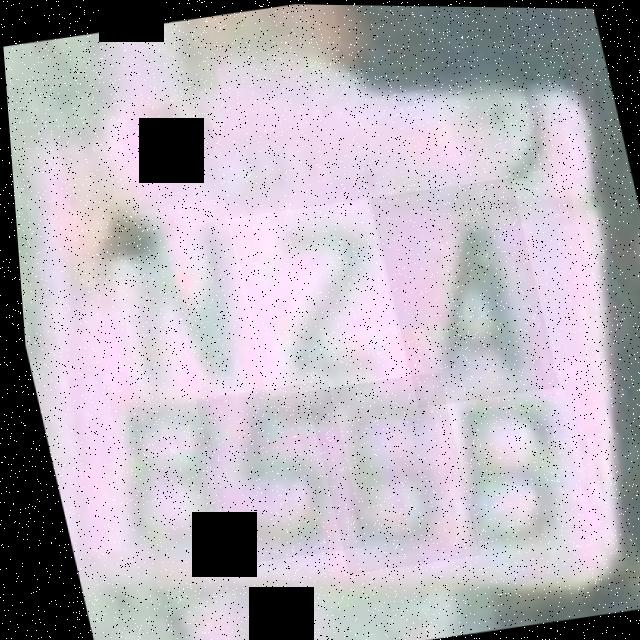5: (188, 378, 359, 567)
6: (299, 369, 474, 575)
8: (419, 360, 594, 565)
A: (365, 174, 555, 408)
B: (65, 364, 261, 580)
N: (96, 196, 264, 411)
Z: (221, 196, 404, 398)
